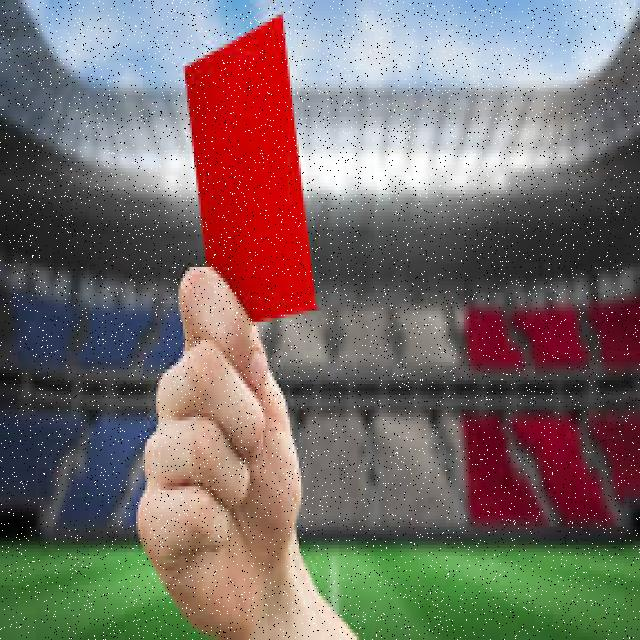red-card: (134, 7, 364, 640)
